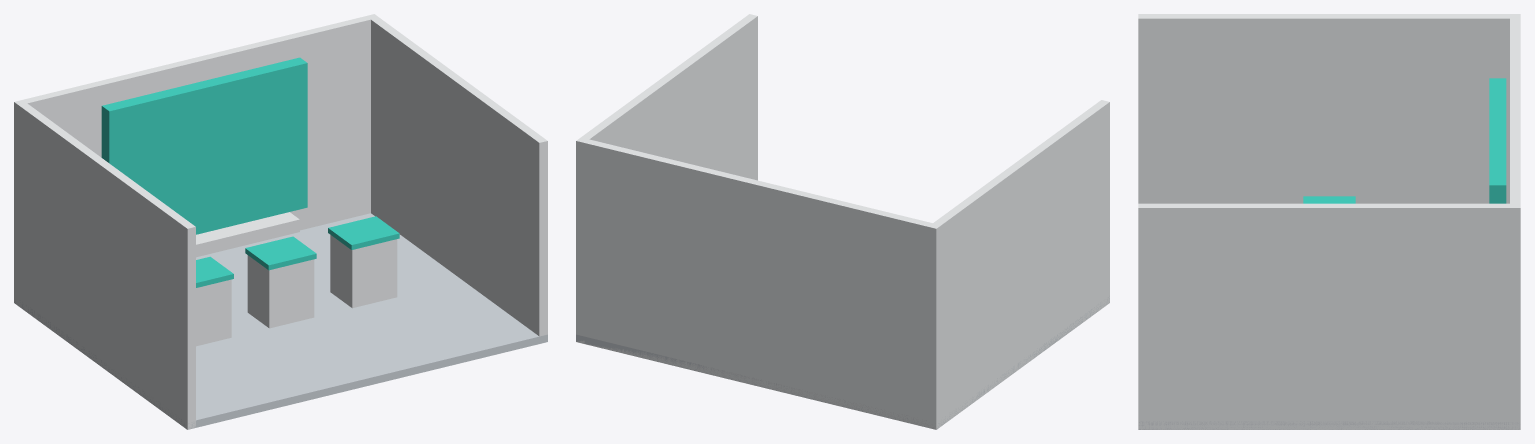
The picture shows the model from 3 angles, left to right: view 1: azimuth 30°, elevation 25°; view 2: azimuth 150°, elevation 25°; view 3: azimuth 270°, elevation 25°; orthographic projection. The views are drawn at different scales.
Parts seen in each view (by area): view 1: Exhibition Booth Concept; view 2: Exhibition Booth Concept; view 3: Exhibition Booth Concept.
Part boxes in pixels (bbox=[...]): Exhibition Booth Concept: bbox=[14, 14, 547, 429]; Exhibition Booth Concept: bbox=[576, 14, 1109, 429]; Exhibition Booth Concept: bbox=[1138, 14, 1520, 429].
Size of the model in its own units: 6 by 3.2 by 5.
